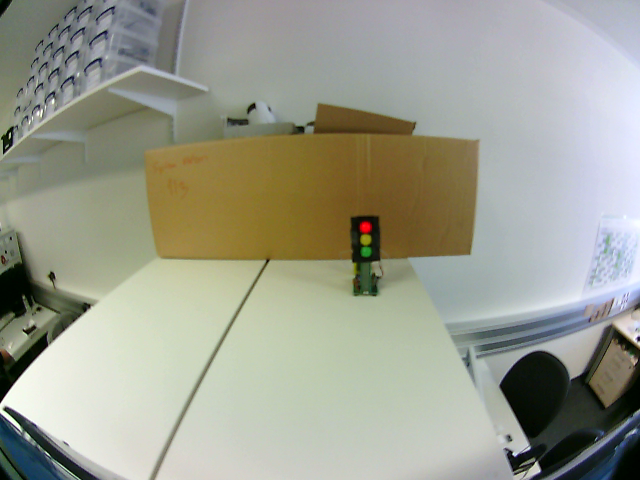red trafficlight: (354, 216, 376, 261)
